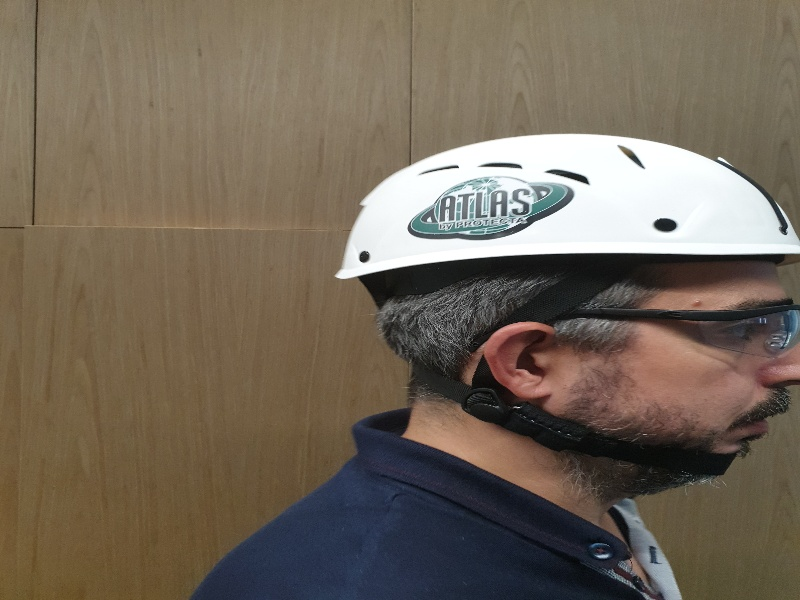Baret: (336, 132, 800, 283)
Gozluk: (565, 302, 800, 363)
